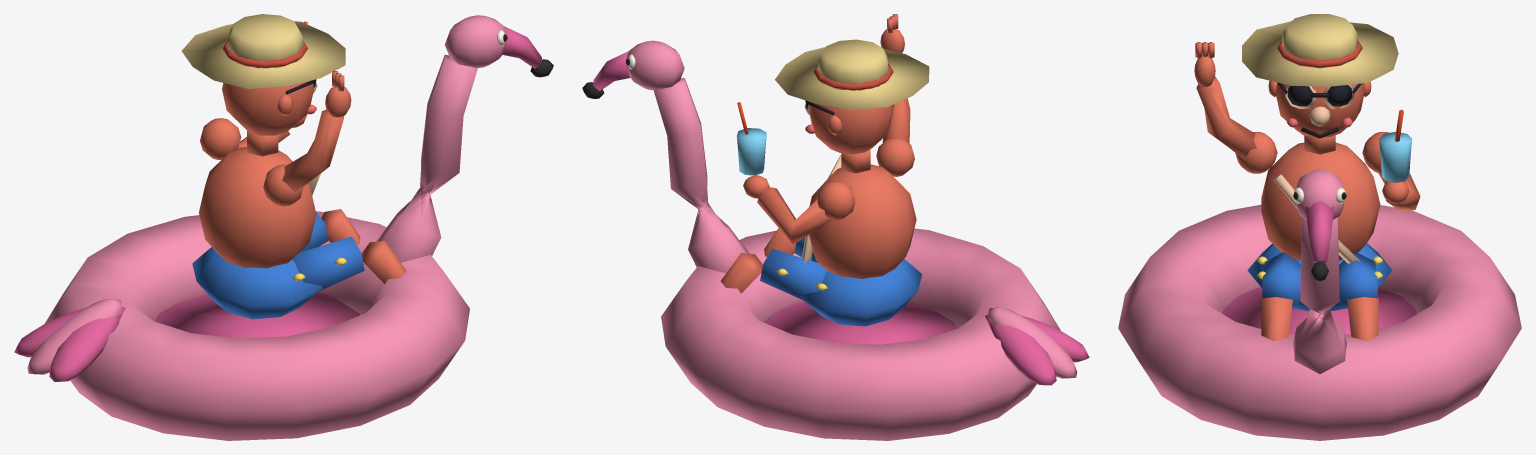
File: guiri.glb
The picture shows the model from 3 angles, left to right: view 1: azimuth 30°, elevation 25°; view 2: azimuth 150°, elevation 25°; view 3: azimuth 270°, elevation 25°; orthographic projection. The views are drawn at different scales.
Visible parts, largest first — view 1: flotador, guiri, brazo; view 2: flotador, guiri, brazo; view 3: flotador, guiri, brazo.
Boxes of the visible parts, box(x1,y1,x2,y2) form: flotador: box(14, 15, 553, 440); guiri: box(181, 14, 406, 319); brazo: box(263, 70, 351, 206); flotador: box(582, 40, 1089, 440); guiri: box(721, 39, 929, 326); brazo: box(876, 14, 914, 176); flotador: box(1118, 169, 1521, 440); guiri: box(1242, 14, 1420, 340); brazo: box(1194, 42, 1277, 173).
Size of the model in its own units: 2.01 by 1.23 by 1.33.
